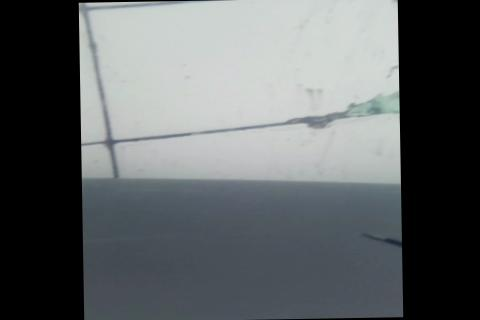keretakan: (356, 230, 401, 251)
